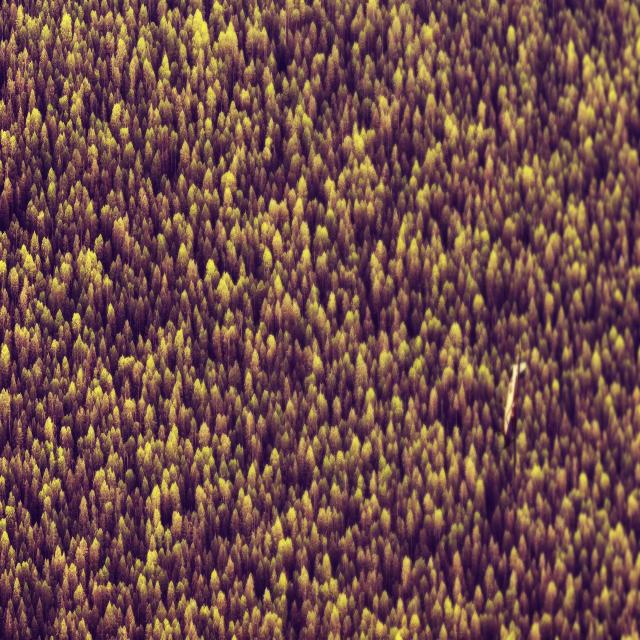airplane: (503, 349, 526, 434)
